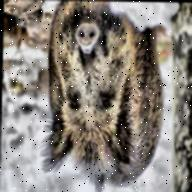boar: (32, 0, 186, 192)
